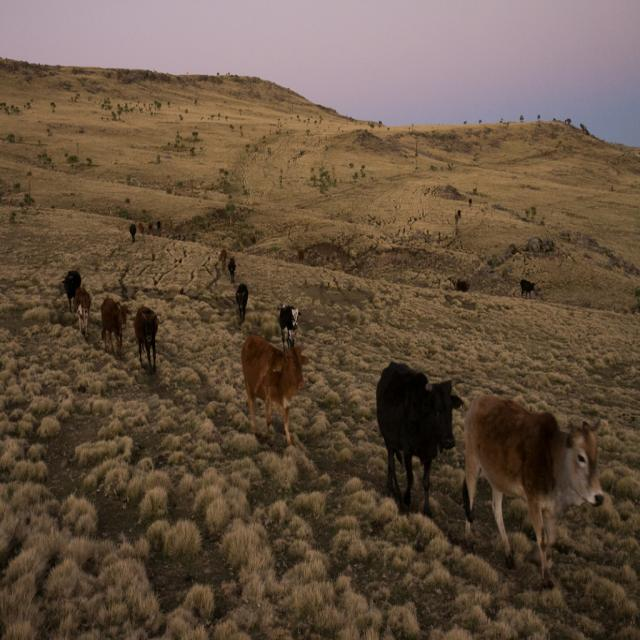Cattle: (62, 198, 604, 589)
